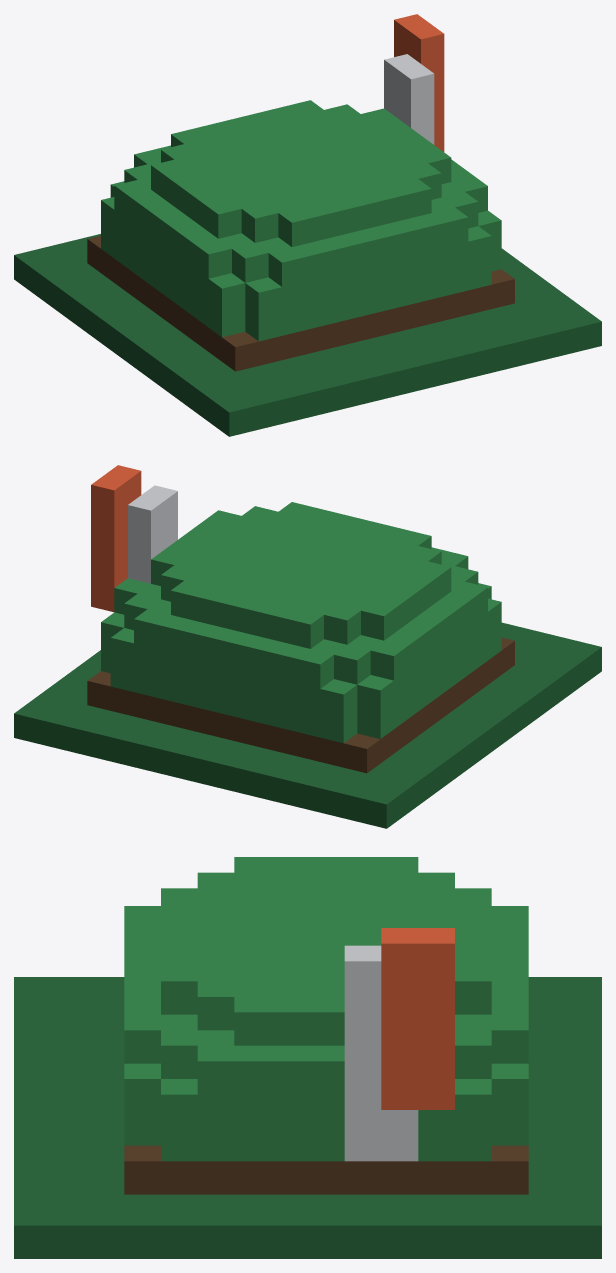
Rendered from gear_jaeger_helmet.glb.
3 renders of one model, top to bottom at view 1: azimuth 30°, elevation 25°; view 2: azimuth 150°, elevation 25°; view 3: azimuth 270°, elevation 25°, orthographic. The views are drawn at different scales.
Parts seen in each view (by area): view 1: body; view 2: body; view 3: body.
Boxes of the visible parts, box(x1,y1,x2,y2) form: body: box(14, 14, 601, 436); body: box(14, 465, 601, 828); body: box(14, 857, 601, 1258).
Bounding box in the file's own units: 0.96 × 0.54 × 0.96.
